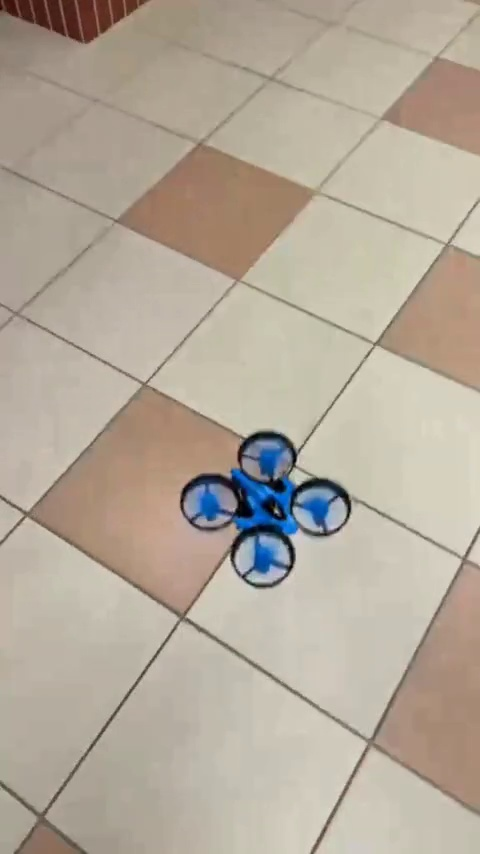drone: (179, 434, 351, 592)
